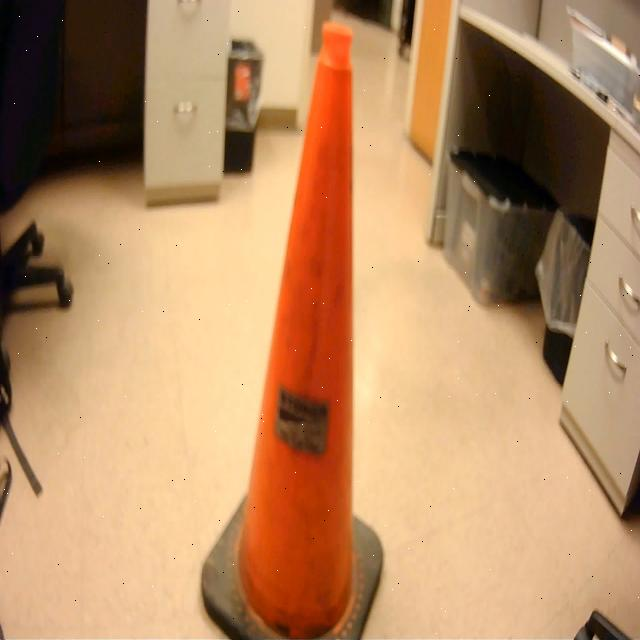traffic cone: (197, 16, 390, 640)
